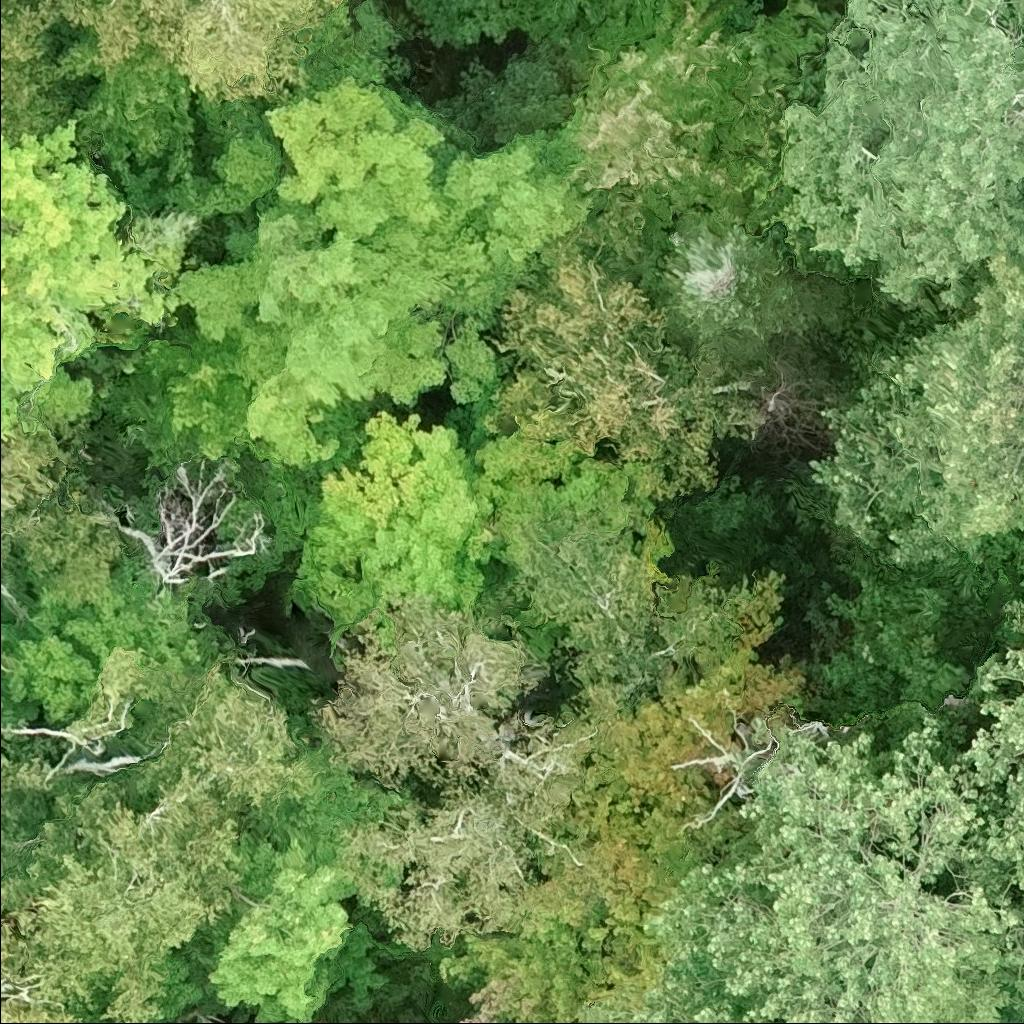crown: (168, 74, 600, 481), (0, 657, 332, 1023), (657, 711, 1023, 1023), (306, 602, 610, 956), (766, 0, 1023, 316), (483, 232, 771, 497), (806, 247, 1023, 558), (542, 0, 751, 297), (0, 115, 179, 439), (287, 409, 496, 655), (441, 398, 657, 565), (0, 555, 210, 725), (650, 204, 849, 368), (204, 827, 358, 1023), (86, 0, 346, 101), (118, 459, 271, 583), (568, 938, 779, 1023), (136, 319, 254, 463), (436, 922, 594, 1023), (963, 644, 1023, 894), (11, 492, 134, 602), (0, 428, 65, 520), (0, 917, 35, 979), (0, 1000, 83, 1023), (0, 641, 23, 673), (1010, 0, 1023, 36), (712, 0, 729, 6), (678, 0, 692, 4)
